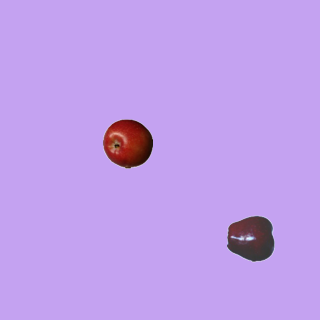Apple Braeburn: (102, 118, 152, 168)
Apple Red Delicious: (226, 213, 276, 263)
